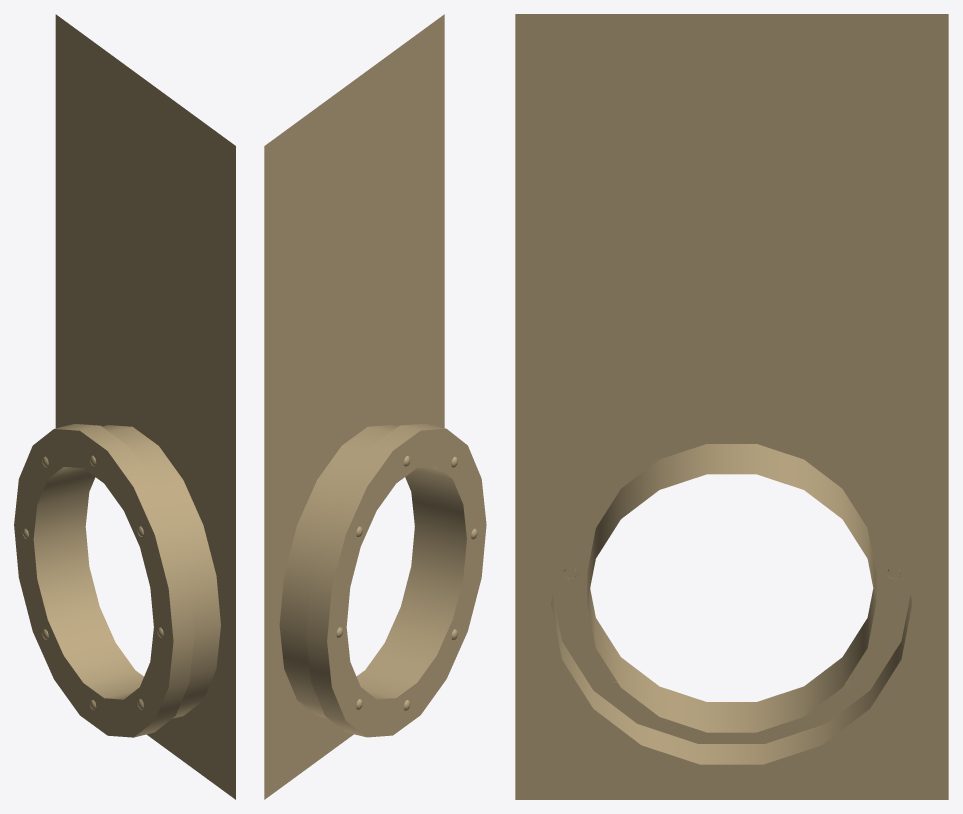
Rendered from Pipe_Large_Wall_3x6_Sewer_Environment.FBX.
The picture shows the model from 3 angles, left to right: view 1: azimuth 30°, elevation 25°; view 2: azimuth 150°, elevation 25°; view 3: azimuth 270°, elevation 25°; orthographic projection. The views are drawn at different scales.
Parts seen in each view (by area): view 1: Rohrende_Wand_3x6; view 2: Rohrende_Wand_3x6; view 3: Rohrende_Wand_3x6.
Boxes of the visible parts, x1,y1,x2,y2 form: Rohrende_Wand_3x6: [14, 14, 235, 799]; Rohrende_Wand_3x6: [264, 14, 486, 799]; Rohrende_Wand_3x6: [515, 14, 948, 799].
Bounding box in the file's own units: 52.36 × 600 × 300.
